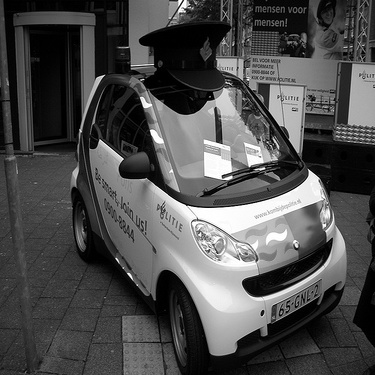car: (69, 60, 349, 372)
